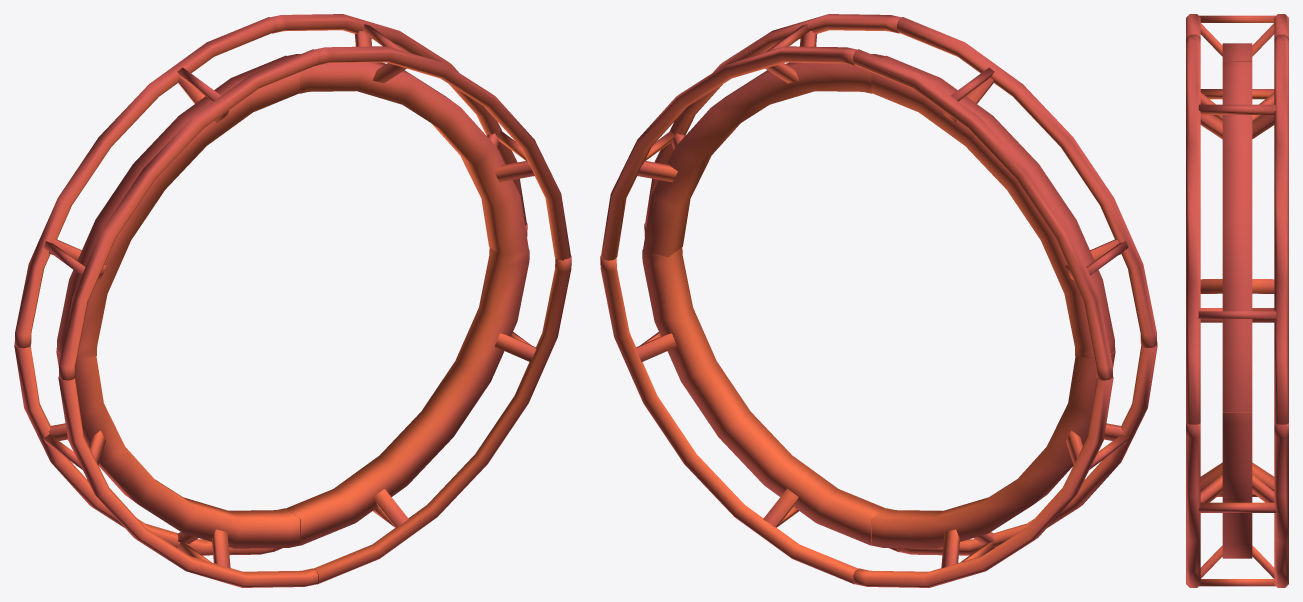
Rendered from roller_coaster.obj.
3 views of the same model, side by side, from view 1: azimuth 30°, elevation 25°; view 2: azimuth 150°, elevation 25°; view 3: azimuth 270°, elevation 25° (orthographic).
Parts seen in each view (by area): view 1: coaster-hanging-straight-bend.003; view 2: coaster-hanging-straight-bend.003; view 3: coaster-hanging-straight-bend.003.
Part boxes in pixels (box(x1,y1,x2,y2)): coaster-hanging-straight-bend.003: box(14, 14, 571, 587); coaster-hanging-straight-bend.003: box(600, 14, 1157, 587); coaster-hanging-straight-bend.003: box(1186, 14, 1288, 587).
Bounding box in the file's own units: 14.39 × 14.37 × 2.52.
1 material, 1 textured.
